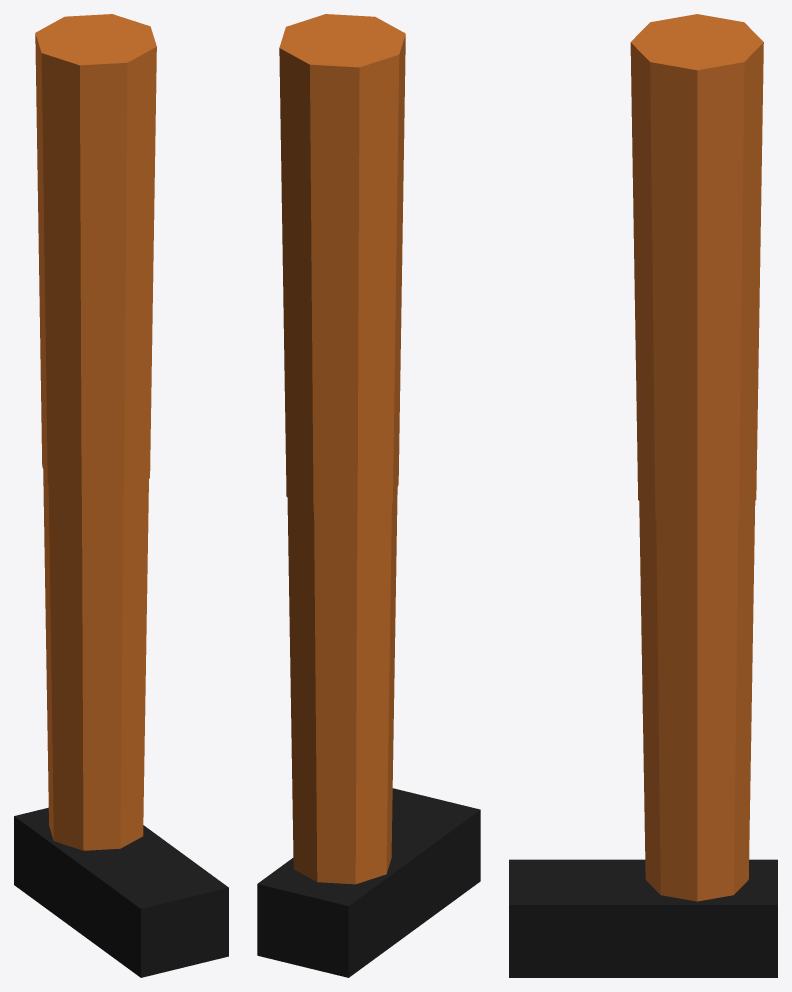
File: PersonHelper2LegL.obj
The picture shows the model from 3 angles, left to right: view 1: azimuth 30°, elevation 25°; view 2: azimuth 150°, elevation 25°; view 3: azimuth 270°, elevation 25°; orthographic projection. The views are drawn at different scales.
Visible parts, largest first — view 1: PersonHelper2LegL; view 2: PersonHelper2LegL; view 3: PersonHelper2LegL.
Boxes of the visible parts, x1,y1,x2,y2 form: PersonHelper2LegL: (14, 14, 228, 977); PersonHelper2LegL: (257, 14, 480, 977); PersonHelper2LegL: (509, 14, 777, 977).
Bounding box in the file's own units: 0.124 × 0.9375 × 0.25.
